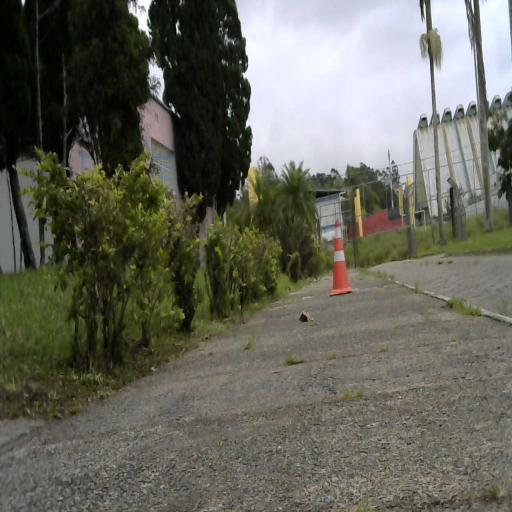cone: (330, 218, 354, 296)
